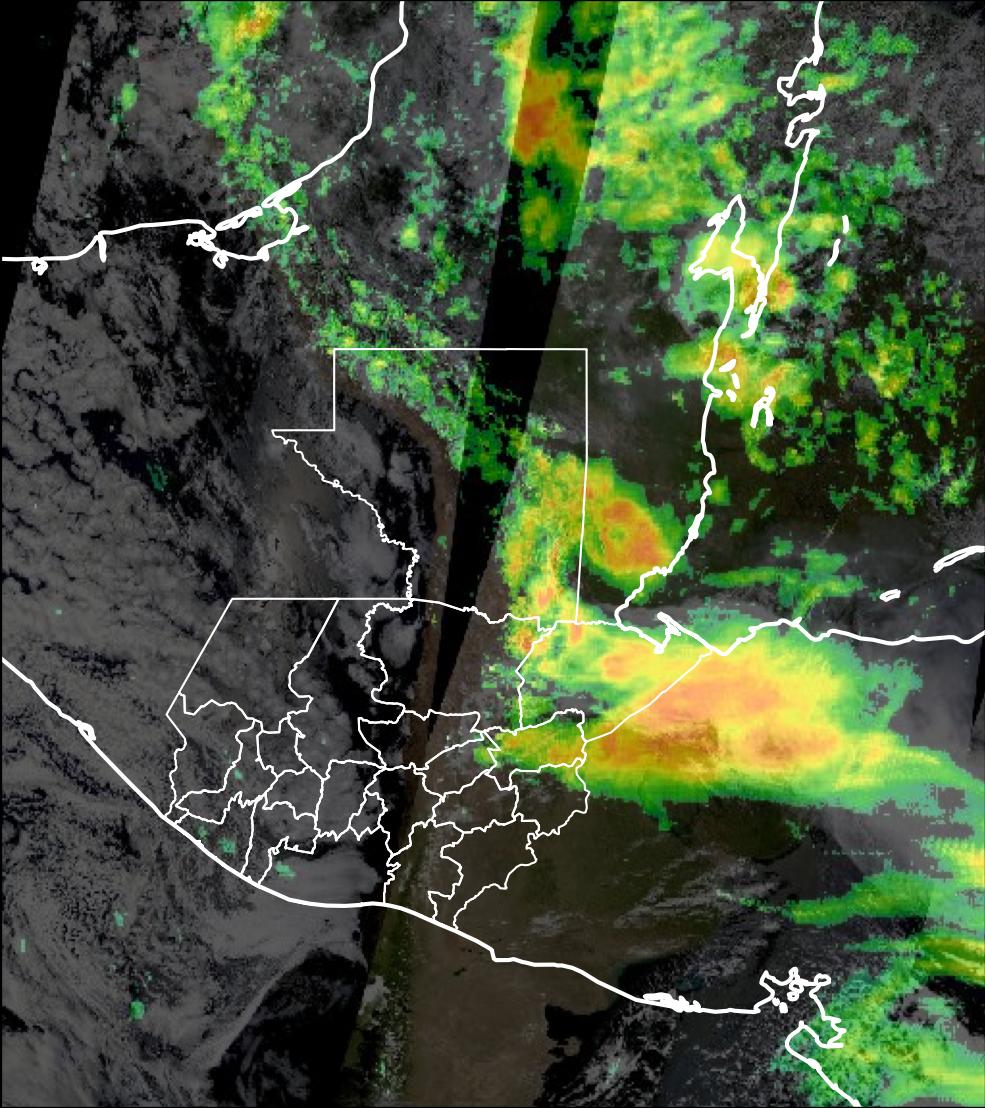precipitacion: (599, 633, 833, 790)
